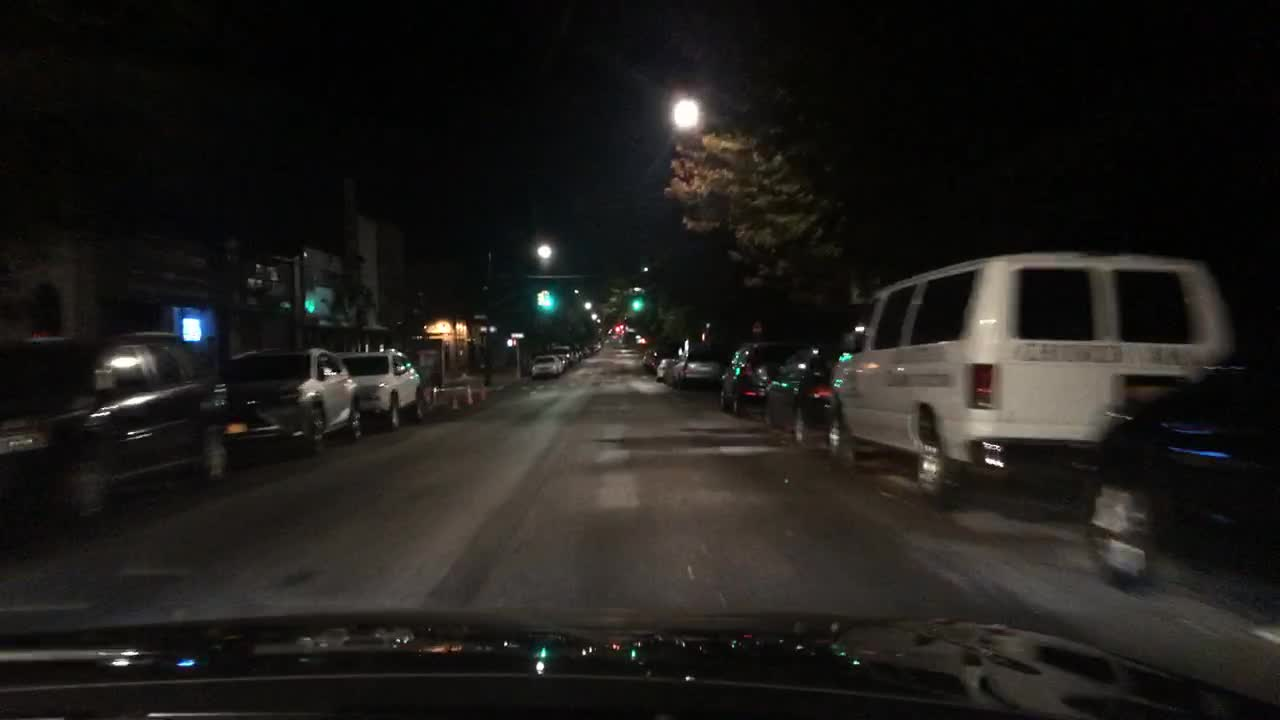car: (825, 256, 1234, 502), (1085, 330, 1275, 618), (1, 330, 231, 544), (218, 346, 363, 457), (760, 346, 851, 448), (335, 346, 425, 428), (718, 341, 792, 409), (670, 349, 724, 394), (530, 354, 564, 379), (654, 356, 676, 381), (551, 343, 574, 366), (647, 350, 663, 371), (590, 339, 602, 352), (581, 343, 591, 357), (573, 347, 584, 359), (642, 349, 650, 364)
traffic light: (542, 292, 551, 308), (303, 302, 313, 314), (632, 298, 640, 312), (536, 291, 543, 305), (613, 322, 619, 332), (619, 321, 624, 330)
traffic sign: (751, 322, 763, 334)
